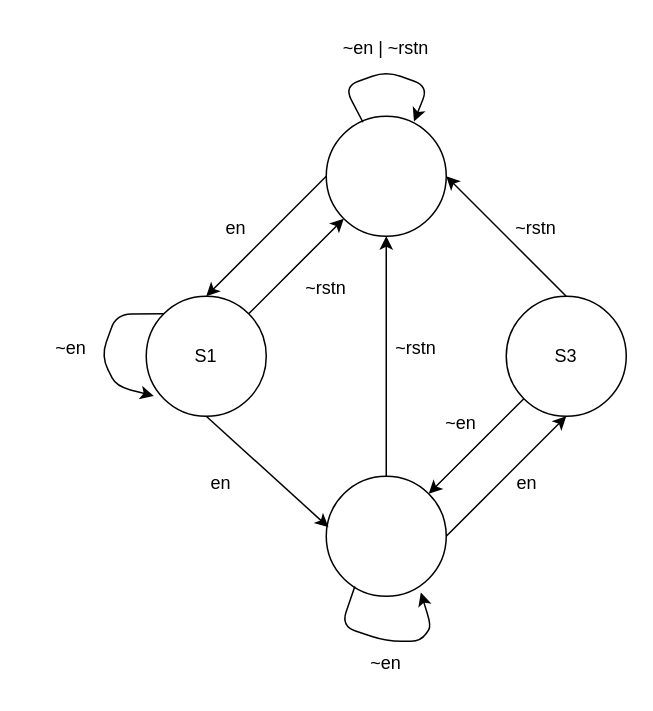
The diagram is 653 pixels wide and 711 high, and some of its shapes have lost their labels. Here are the shapes that lost their labels. From the top down, the box of each, then its label:
(325, 115, 446, 236): S0
(325, 475, 446, 596): S2
